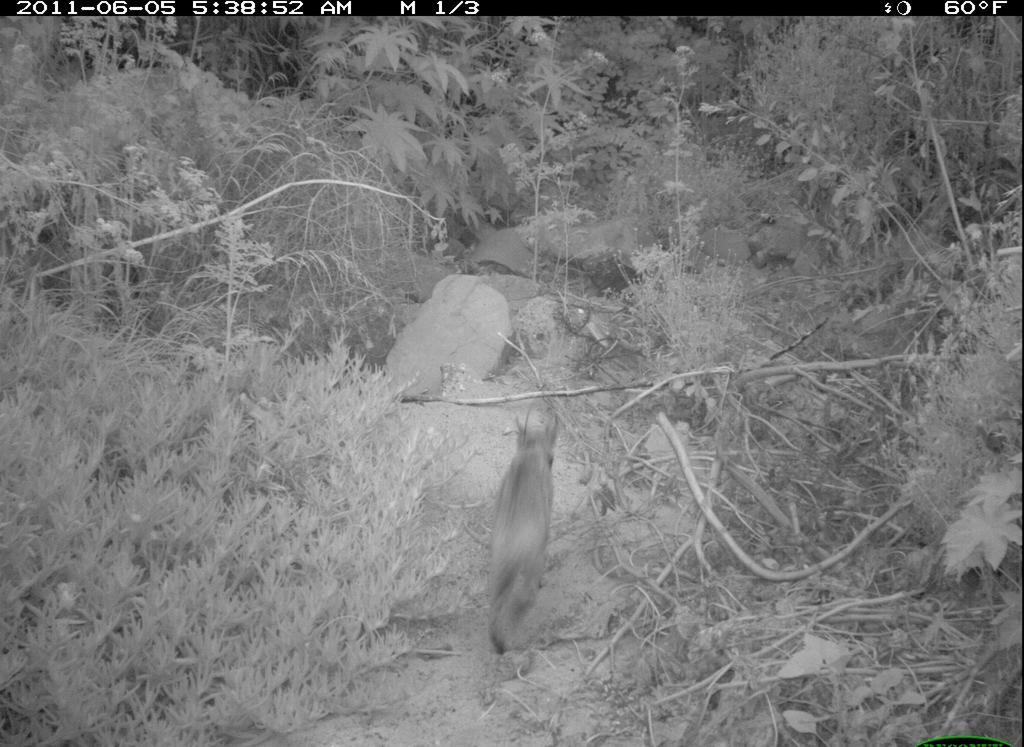bobcat: (477, 410, 561, 670)
